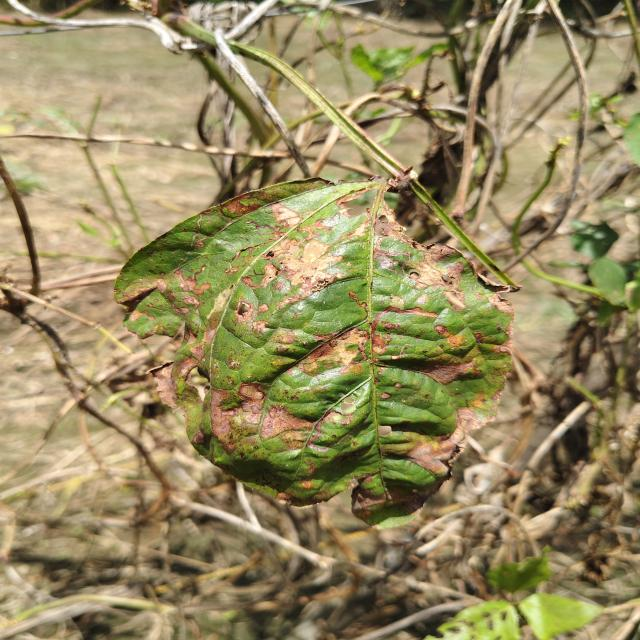leaf-low: (115, 169, 519, 527)
